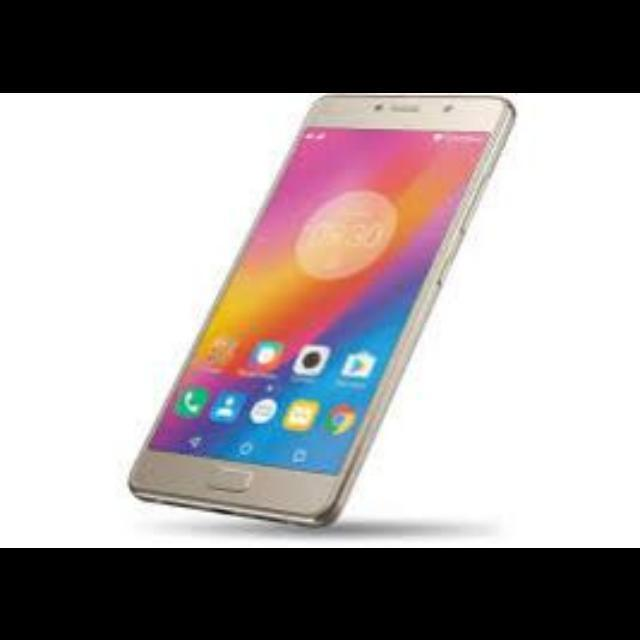PhoneUse: (128, 94, 520, 526)
